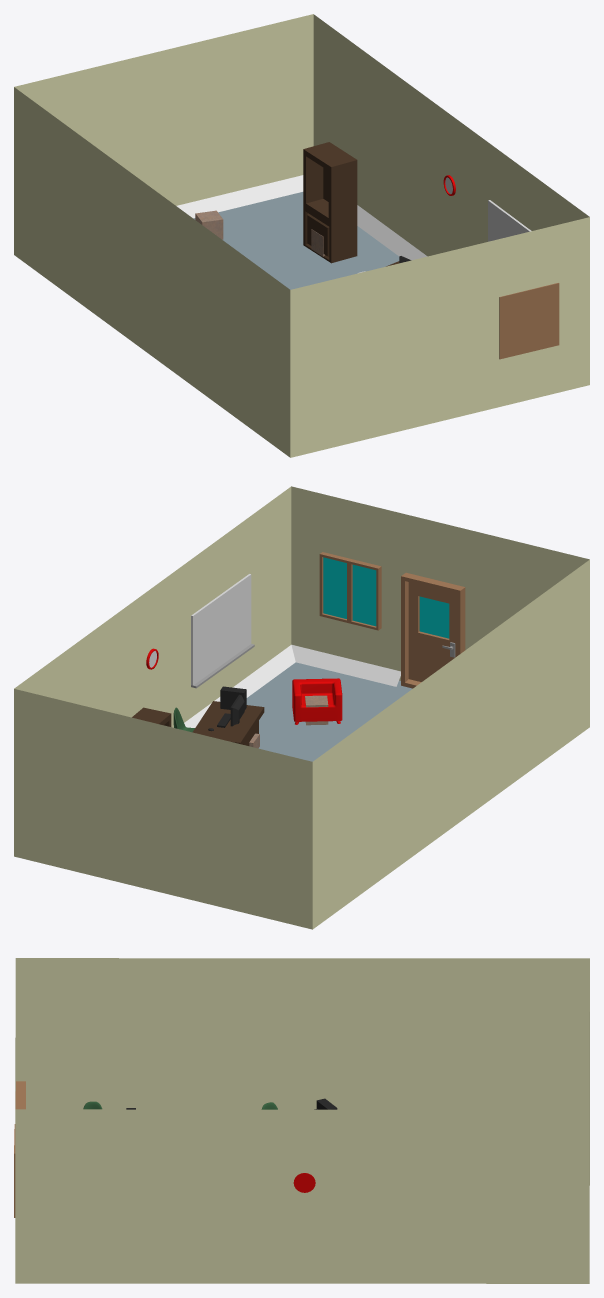
Rendered from Office.fbx.
The picture shows the model from 3 angles, top to bottom: view 1: azimuth 30°, elevation 25°; view 2: azimuth 150°, elevation 25°; view 3: azimuth 270°, elevation 25°; orthographic projection. The views are drawn at different scales.
Visible parts, largest first — view 1: pCube15, pCube10, pCube18, pCube19, pCube20, Cube_Puck_Target_Clone__7; view 2: pCube15, pCube16, pCube20, pCube18, pCube19, pCube13, pCube1; view 3: pCube15.
Part boxes in pixels (x1,y1,x2,y2): pCube15: [14, 14, 589, 457]; pCube10: [303, 142, 357, 263]; pCube18: [499, 283, 559, 359]; pCube19: [176, 175, 427, 260]; pCube20: [488, 200, 531, 241]; Cube_Puck_Target_Clone__7: [195, 210, 324, 256]; pCube15: [14, 486, 589, 929]; pCube16: [401, 572, 465, 688]; pCube20: [191, 574, 254, 688]; pCube18: [319, 552, 381, 630]; pCube19: [184, 644, 400, 727]; pCube13: [292, 678, 342, 724]; pCube1: [192, 701, 264, 745]; pCube15: [15, 958, 589, 1283].
Bounding box in the file's own units: 1557 × 1072 × 2499.
